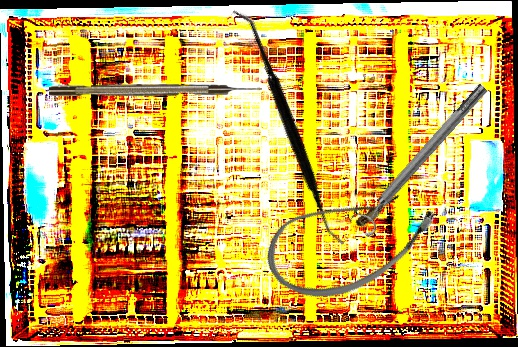Cannula: (253, 156, 448, 322)
Fixation Ring: (346, 77, 497, 240)
Hook Surgical: (49, 84, 262, 96)
Spatula Surgical: (157, 7, 419, 249)
